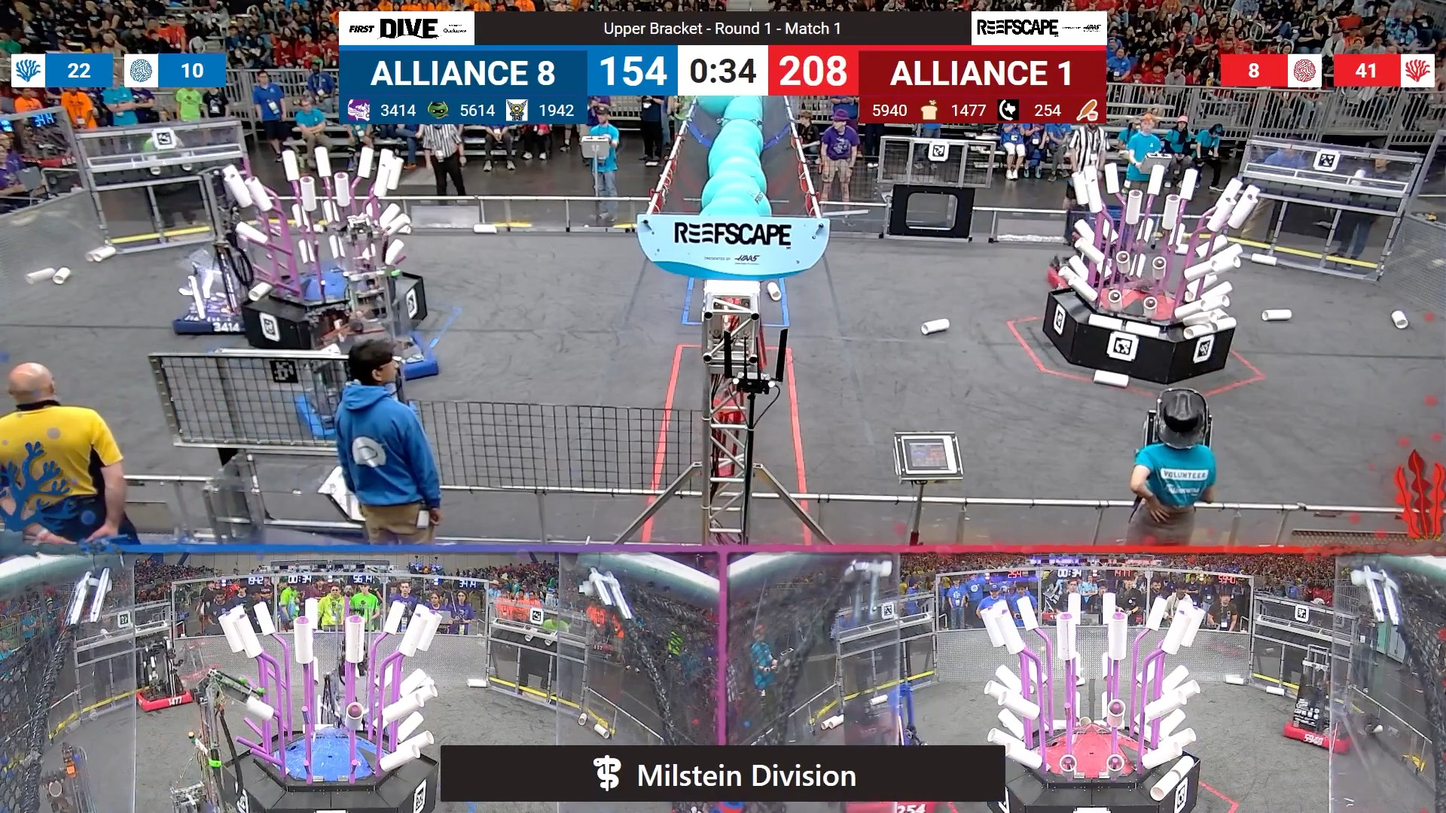bumpers: (345, 333, 451, 385), (1272, 703, 1357, 756), (174, 294, 257, 340), (129, 680, 206, 716), (1037, 257, 1082, 295)
